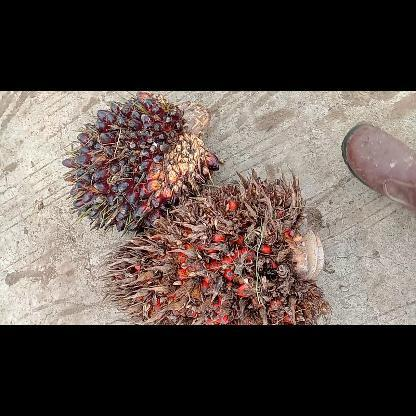TBS mentah: (62, 90, 218, 235)
Terlalu masak: (99, 164, 331, 324)
